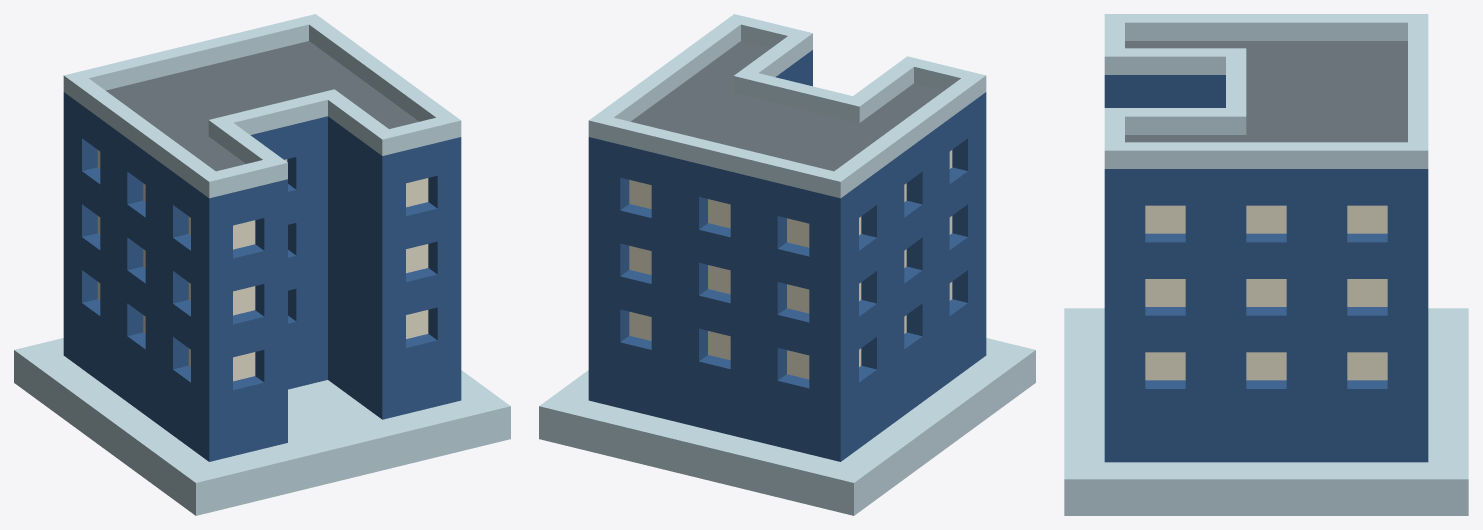
Rendered from Building_5_Base (Blue).obj.
3 renders of one model, left to right at view 1: azimuth 30°, elevation 25°; view 2: azimuth 150°, elevation 25°; view 3: azimuth 270°, elevation 25°, orthographic. The views are drawn at different scales.
Visible parts, largest first — view 1: Building_5_Base_(Blue); view 2: Building_5_Base_(Blue); view 3: Building_5_Base_(Blue).
Boxes of the visible parts, left/top/right/bottom form: Building_5_Base_(Blue): left=14, top=14, right=510, bottom=515; Building_5_Base_(Blue): left=539, top=14, right=1035, bottom=515; Building_5_Base_(Blue): left=1064, top=14, right=1468, bottom=515.
Bounding box in the file's own units: 2 × 1.9 × 2.
